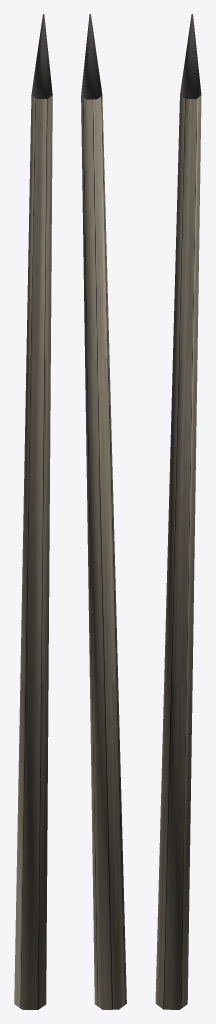
The model's file is Pike_Stake_1.gltf.
The picture shows the model from 3 angles, left to right: view 1: azimuth 30°, elevation 25°; view 2: azimuth 150°, elevation 25°; view 3: azimuth 330°, elevation 25°; orthographic projection.
Visible parts, largest first — view 1: Pike_Stake_1; view 2: Pike_Stake_1; view 3: Pike_Stake_1.
Part boxes in pixels (bbox=[...]): Pike_Stake_1: bbox=[14, 14, 52, 1009]; Pike_Stake_1: bbox=[81, 14, 126, 1009]; Pike_Stake_1: bbox=[155, 14, 201, 1009].
Size of the model in its own units: 0.1149 by 3.05 by 0.095.
Materials: 2 (2 with a texture image).
